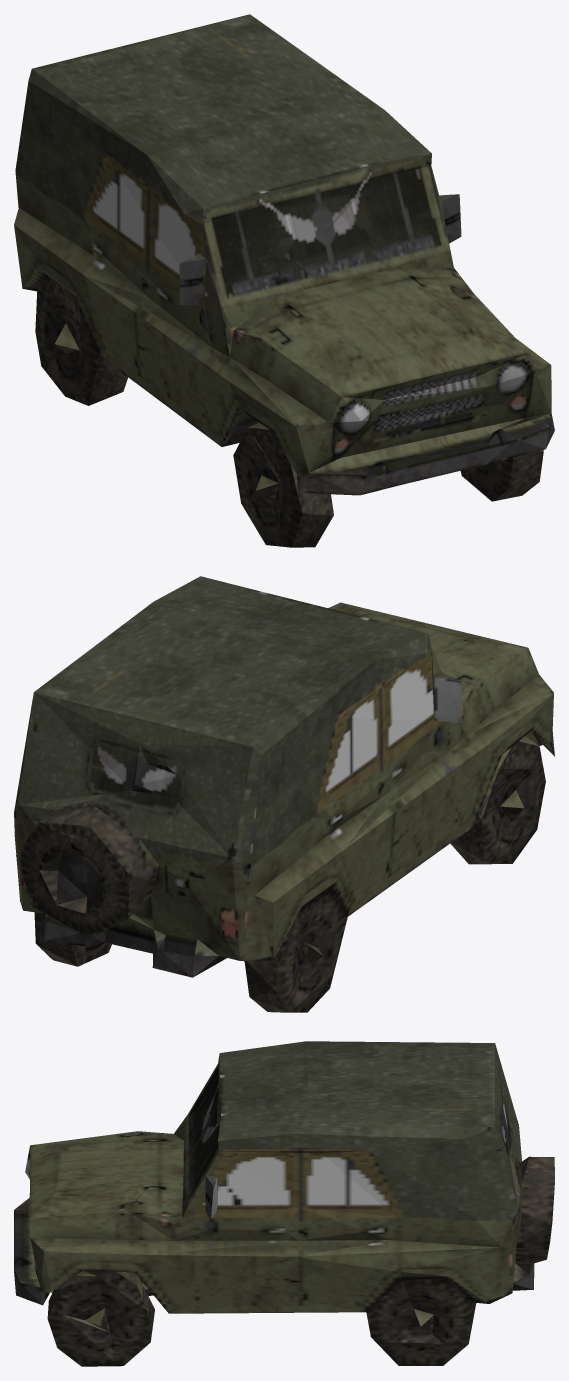
The picture shows the model from 3 angles, top to bottom: view 1: azimuth 30°, elevation 25°; view 2: azimuth 150°, elevation 25°; view 3: azimuth 270°, elevation 25°; orthographic projection. The views are drawn at different scales.
Bounding box in the file's own units: 1.92 × 1.92 × 4.01.
Materials: 1 (1 with a texture image).
